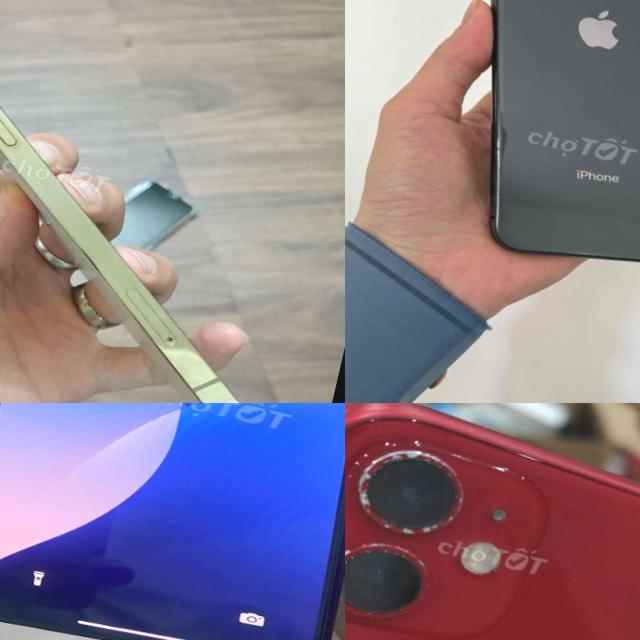gen_11: (0, 403, 345, 640), (345, 403, 640, 640)
gen_12_13: (0, 0, 329, 403)
gen_x_xs: (484, 0, 640, 261)
scratch: (345, 407, 545, 638), (483, 134, 512, 162), (490, 186, 504, 198)
